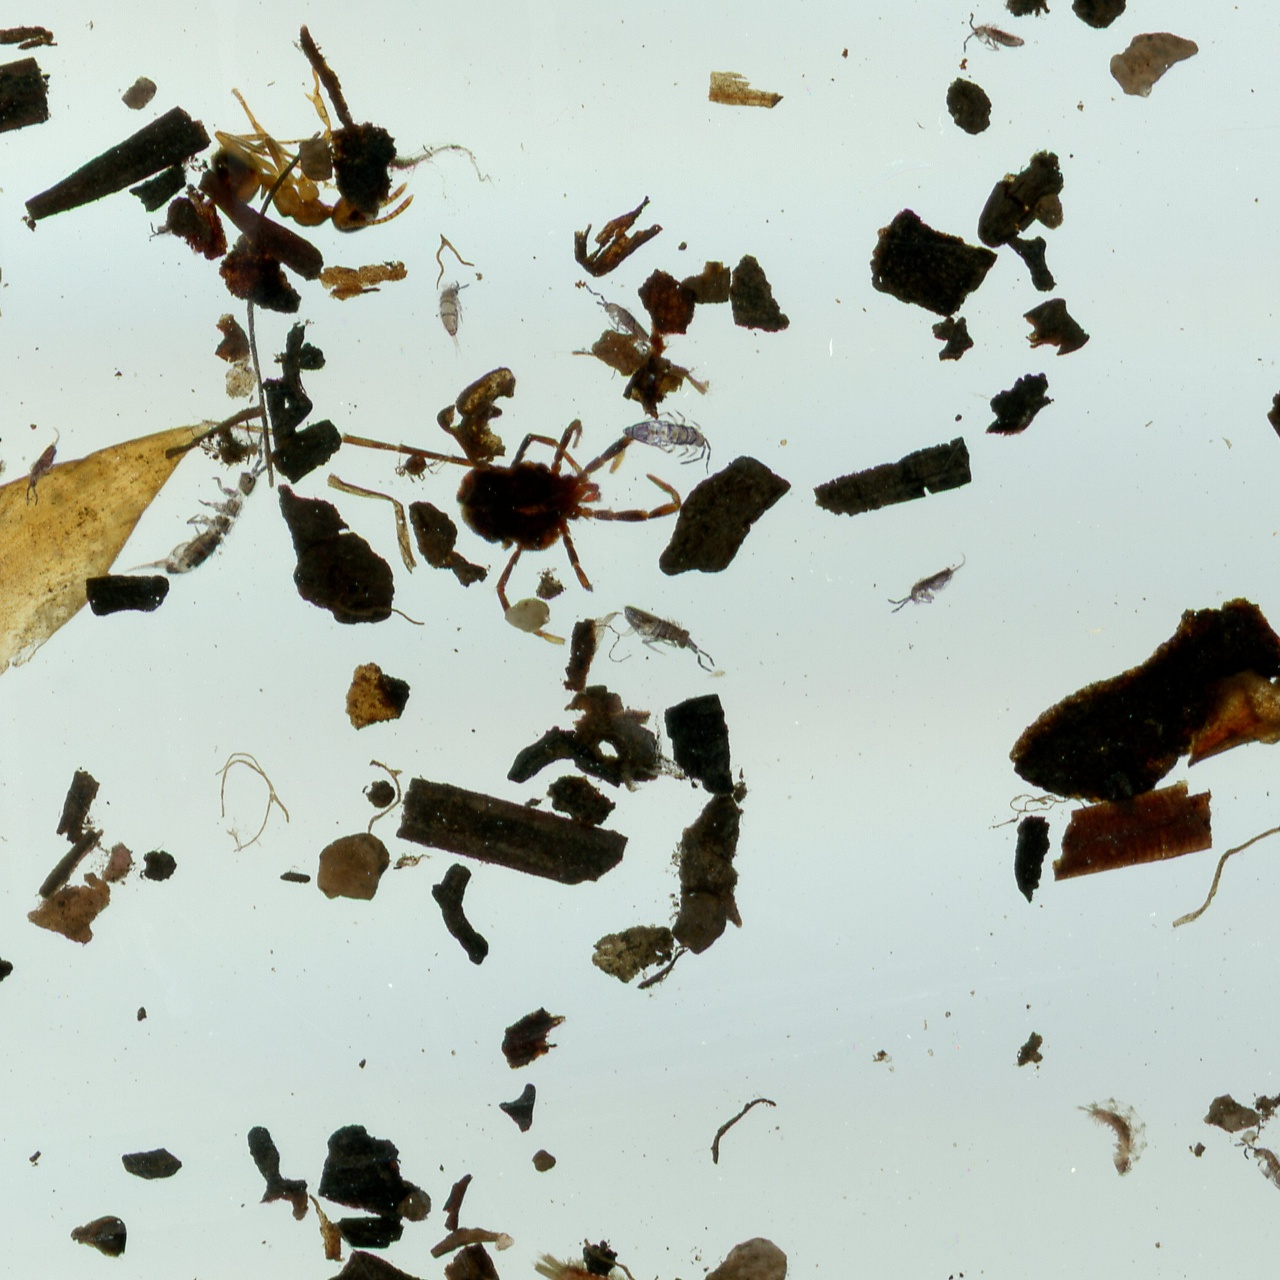arthropod: (324, 400, 693, 653), (203, 61, 415, 237), (117, 401, 292, 614), (604, 591, 731, 682), (870, 540, 988, 627), (579, 282, 666, 363), (1076, 1096, 1155, 1182), (621, 404, 714, 475), (518, 1238, 663, 1280), (18, 420, 69, 511), (430, 274, 478, 359), (961, 8, 1033, 60), (1239, 1135, 1280, 1217), (394, 451, 454, 486), (147, 220, 172, 243), (0, 428, 8, 486)
